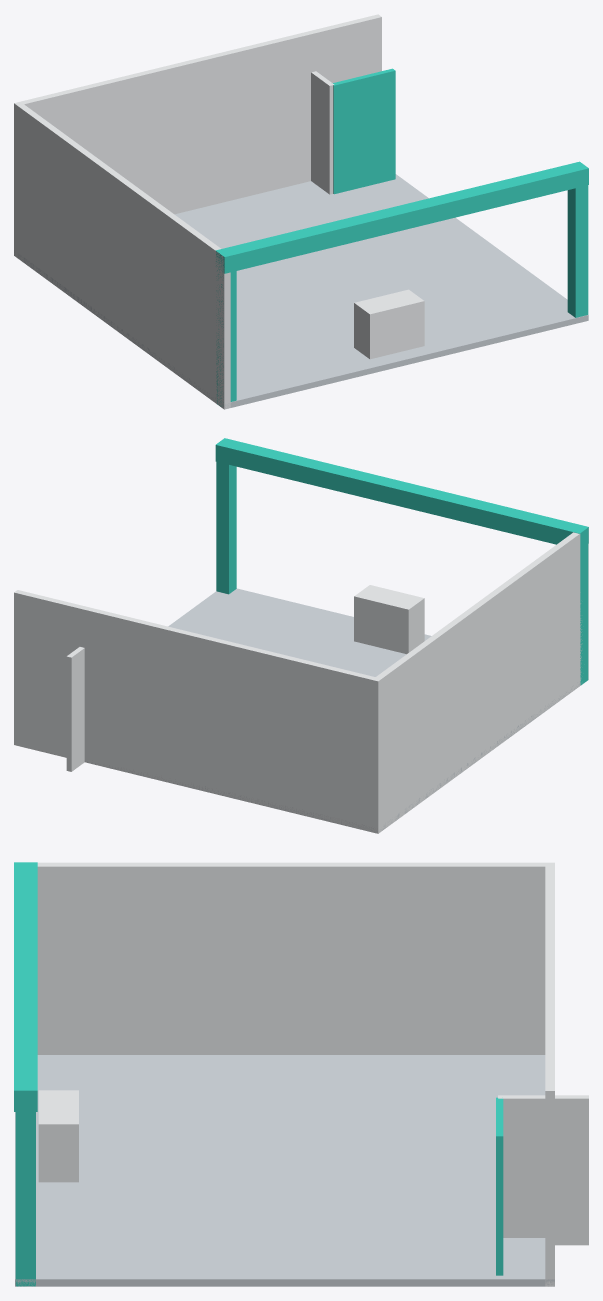
3 renders of one model, top to bottom at view 1: azimuth 30°, elevation 25°; view 2: azimuth 150°, elevation 25°; view 3: azimuth 270°, elevation 25°, orthographic. The views are drawn at different scales.
Visible parts, largest first — view 1: Exhibition Booth Concept; view 2: Exhibition Booth Concept; view 3: Exhibition Booth Concept.
Boxes of the visible parts, bbox=[...] form: Exhibition Booth Concept: bbox=[14, 14, 588, 409]; Exhibition Booth Concept: bbox=[14, 438, 588, 833]; Exhibition Booth Concept: bbox=[14, 862, 588, 1286].
Bounding box in the file's own units: 8 × 3.2 × 8.52.
